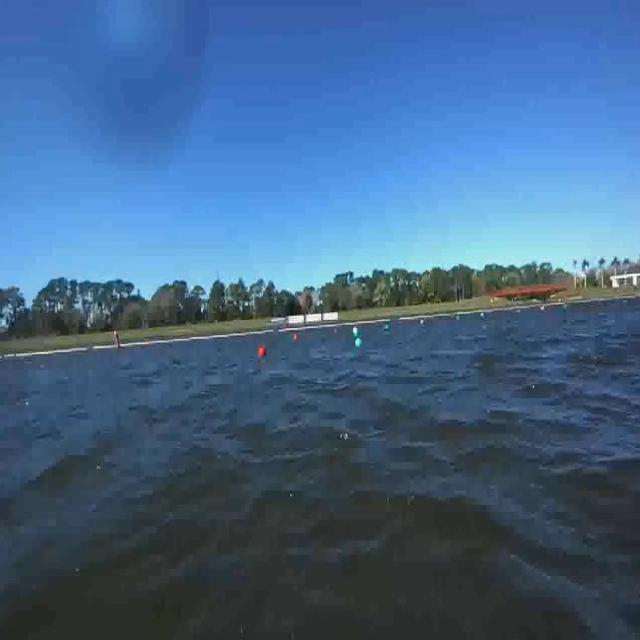green-buoy: (354, 335, 362, 351)
red-buoy: (258, 346, 266, 358)
